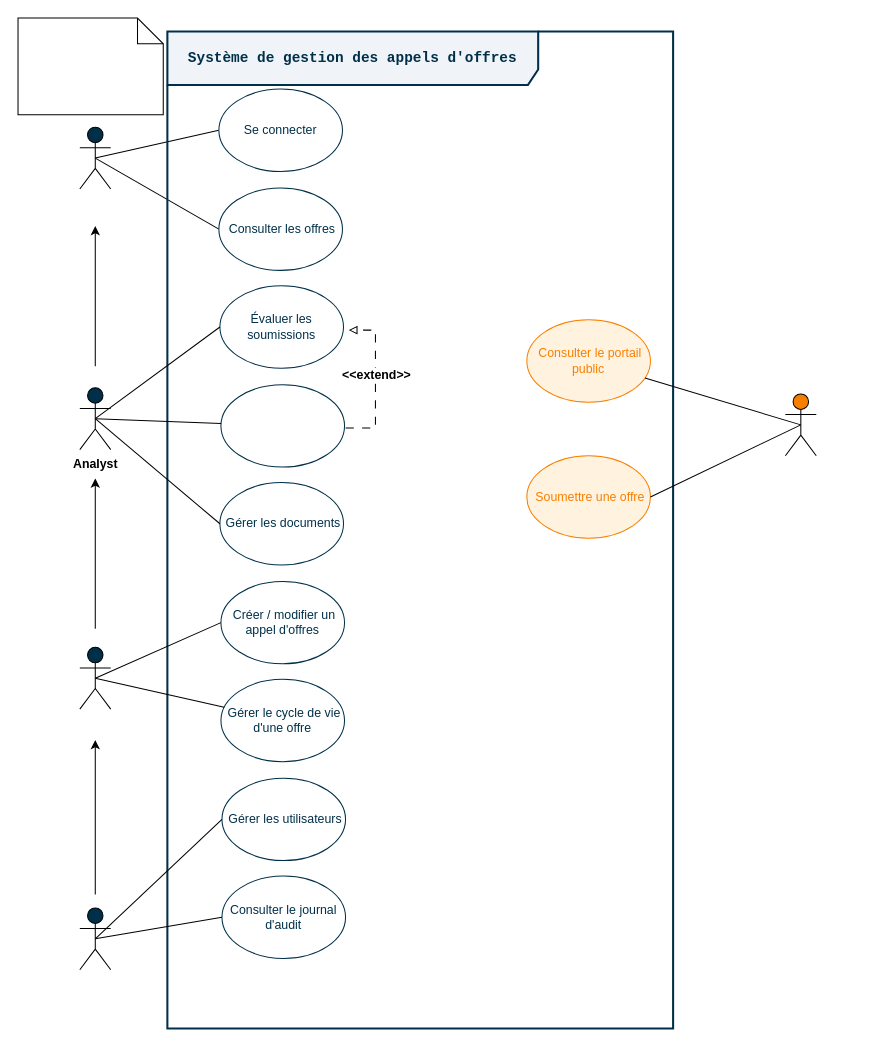
Some shapes in this 891 by 1048 pixel diagram are drawn without their labels. Here are the shapes that lost their labels. From the top down, the centre of each, then its label:
the point at 90,66: Toutes les fonctionnalités internes requièrent une authentification préalable
the point at 95,157: Viewer
the point at 282,425: Générer un rapport PDF
the point at 800,424: Société soumissionnaire
the point at 95,677: Manager
the point at 95,938: Admin
